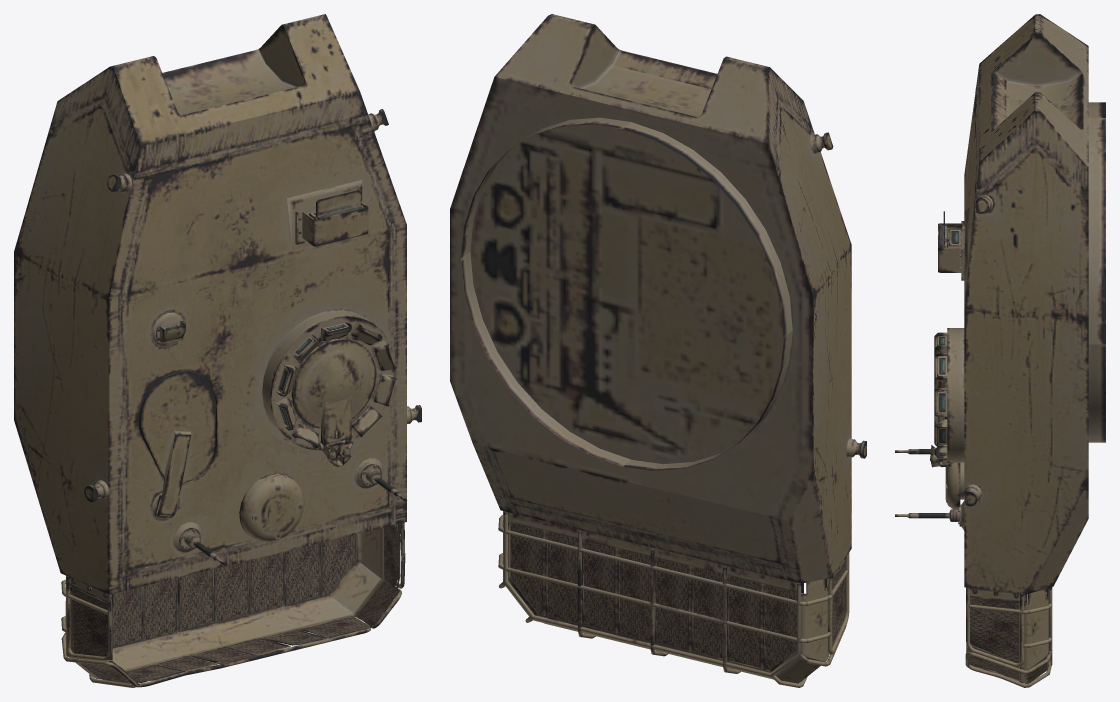
The model's file is Turret_02.glb.
The picture shows the model from 3 angles, left to right: view 1: azimuth 30°, elevation 25°; view 2: azimuth 150°, elevation 25°; view 3: azimuth 270°, elevation 25°; orthographic projection. The views are drawn at different scales.
Parts seen in each view (by area): view 1: set_0_group_0; view 2: set_0_group_0; view 3: set_0_group_0.
Part boxes in pixels (left/top/right/bottom): set_0_group_0: left=14, top=14, right=421, bottom=687; set_0_group_0: left=450, top=14, right=866, bottom=687; set_0_group_0: left=895, top=14, right=1105, bottom=687.
Size of the model in its own units: 2.25 by 3.66 by 1.24.
1 material, 1 textured.
